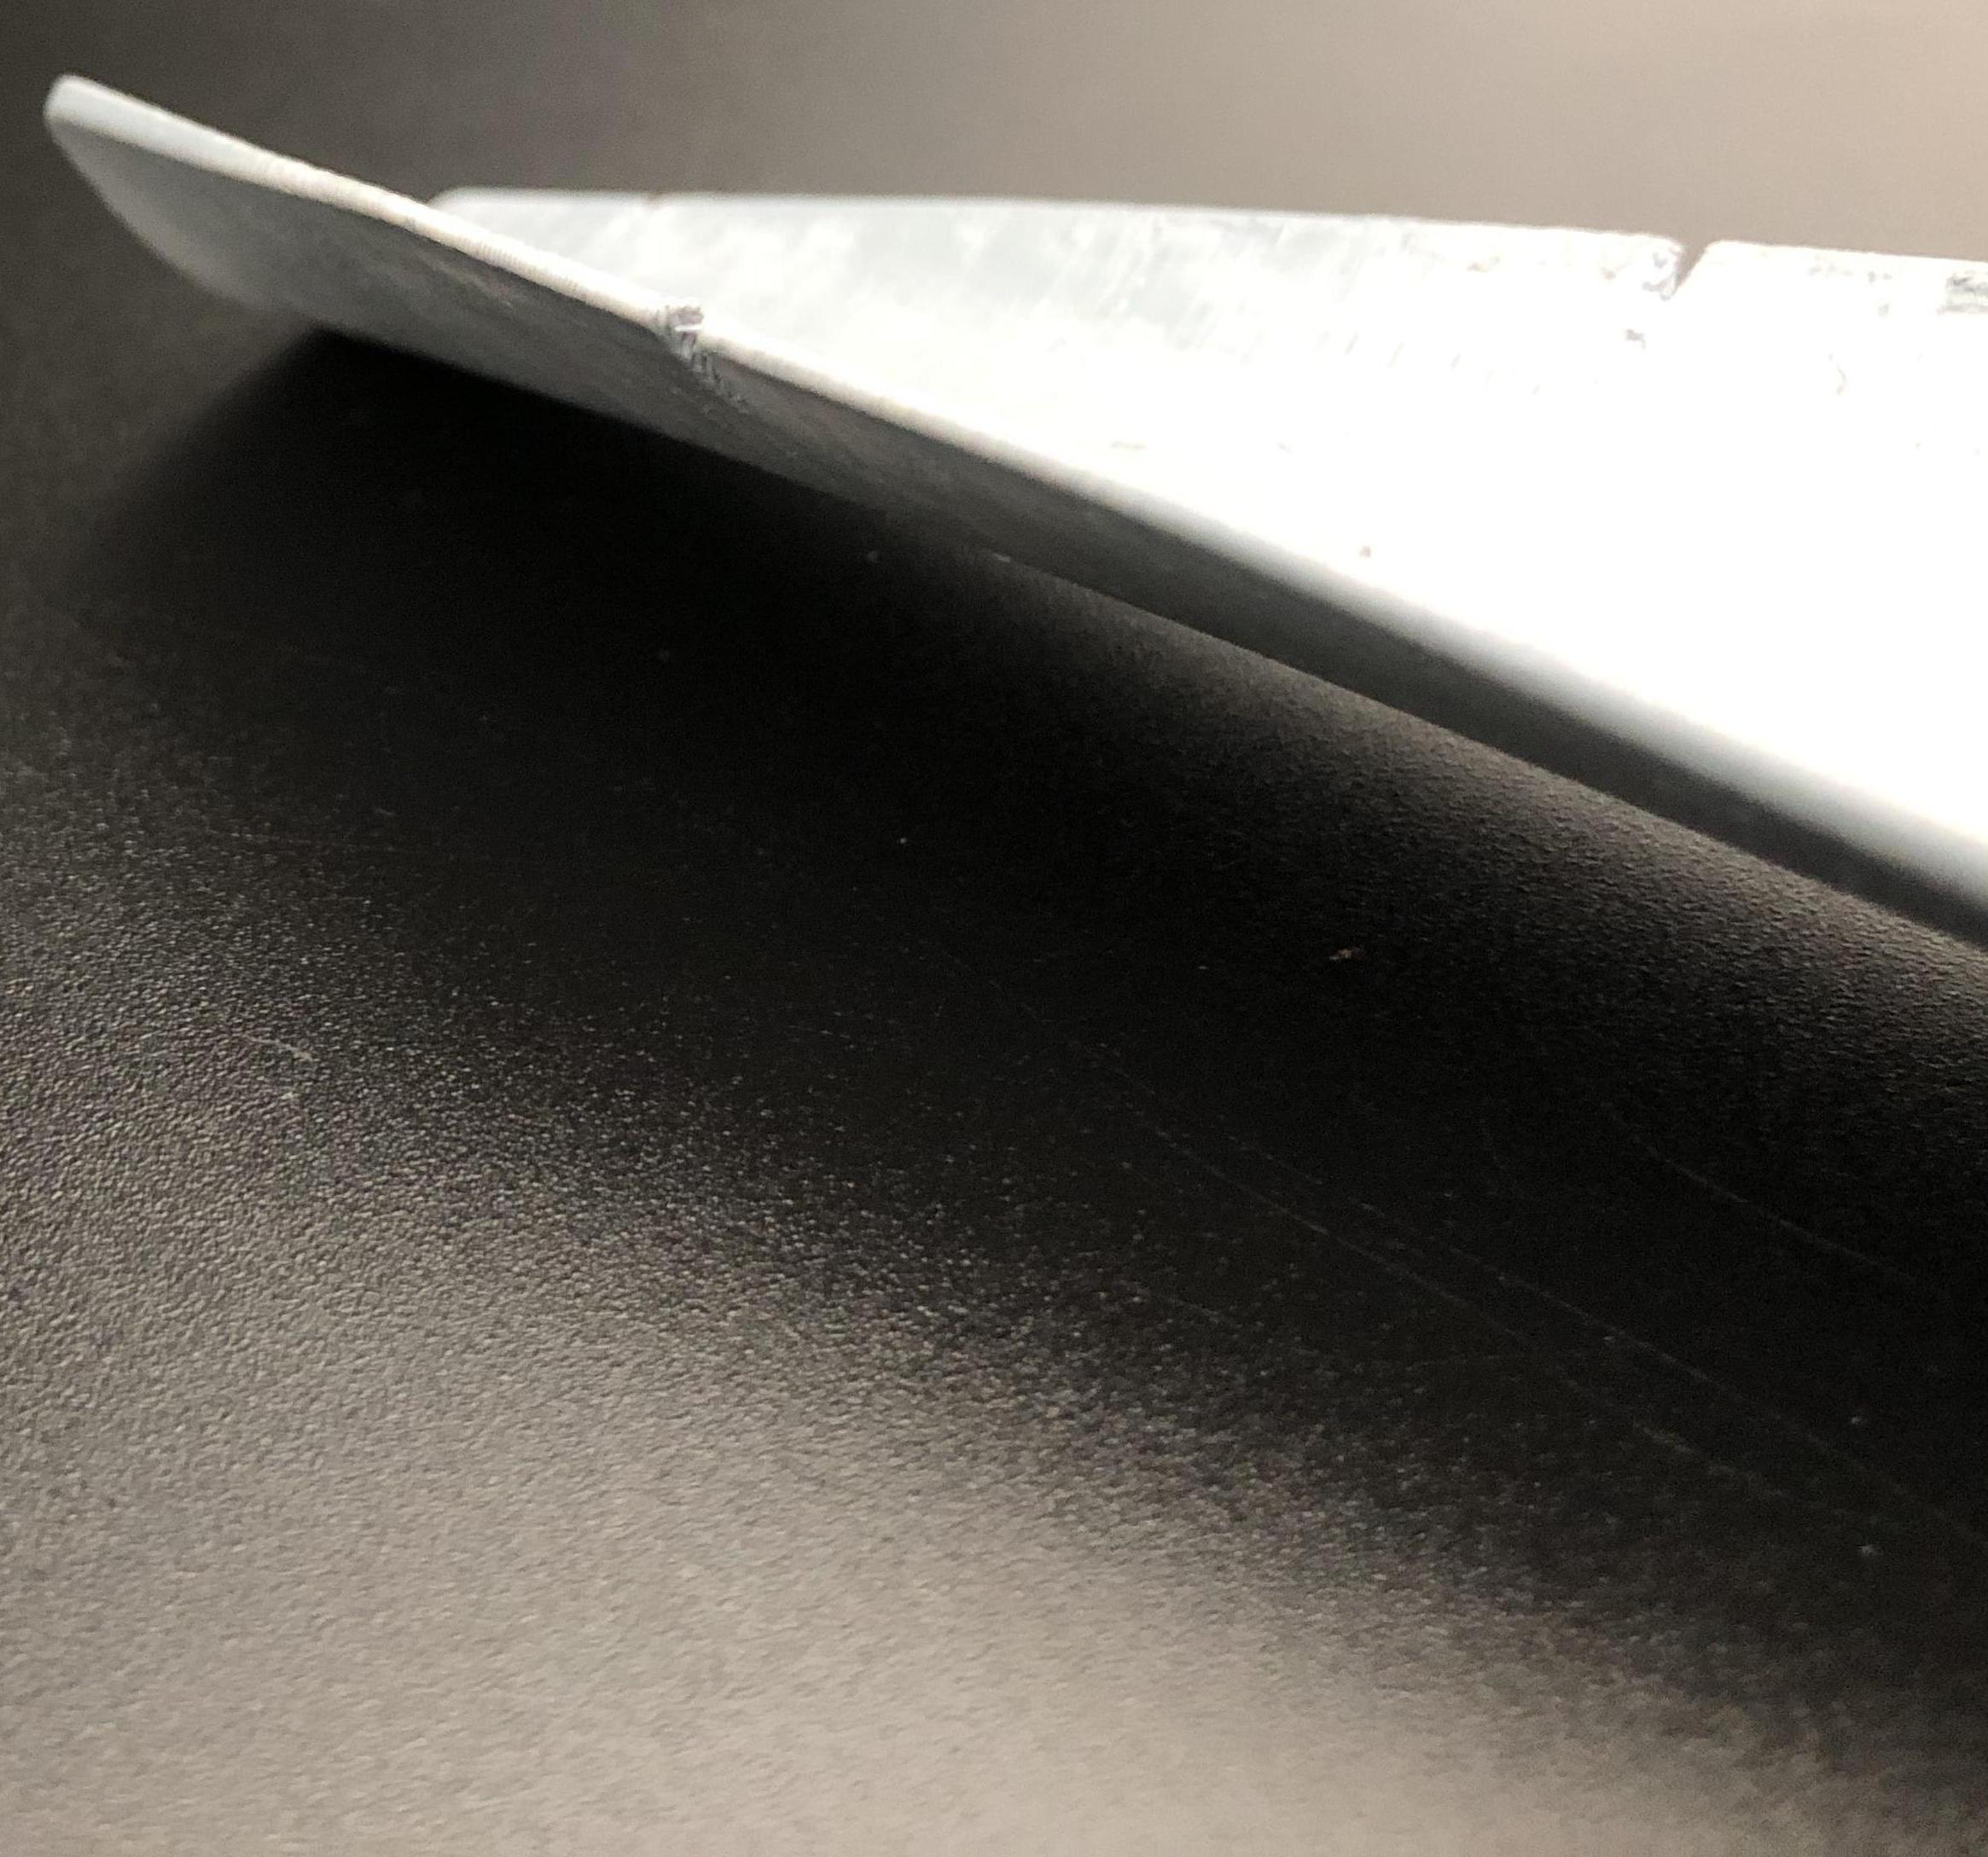groove: (649, 298, 778, 419), (1639, 230, 1759, 297)
